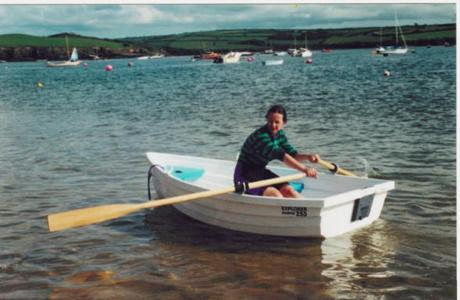person: (234, 106, 323, 201)
